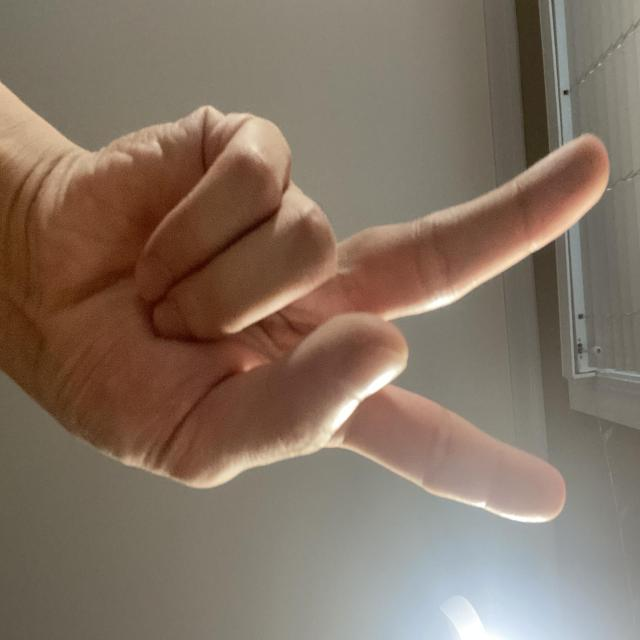K: (221, 31, 557, 640)
